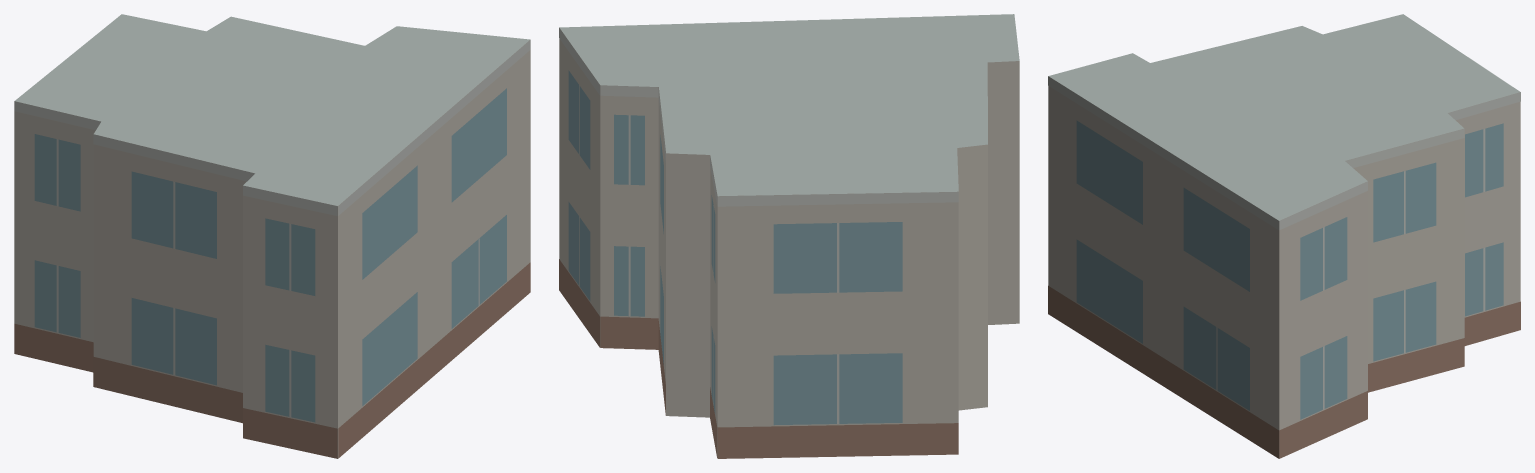
The model's file is survey-upis-32846349.glb.
The picture shows the model from 3 angles, left to right: view 1: azimuth 30°, elevation 25°; view 2: azimuth 150°, elevation 25°; view 3: azimuth 270°, elevation 25°; orthographic projection. The views are drawn at different scales.
Parts seen in each view (by area): view 1: survey-upis-32846349.tmp; view 2: survey-upis-32846349.tmp; view 3: survey-upis-32846349.tmp.
Part boxes in pixels (bbox=[...]): survey-upis-32846349.tmp: bbox=[14, 14, 530, 458]; survey-upis-32846349.tmp: bbox=[559, 14, 1019, 458]; survey-upis-32846349.tmp: bbox=[1048, 14, 1520, 458].
Bounding box in the file's own units: 11.38 × 6.1 × 10.99.
